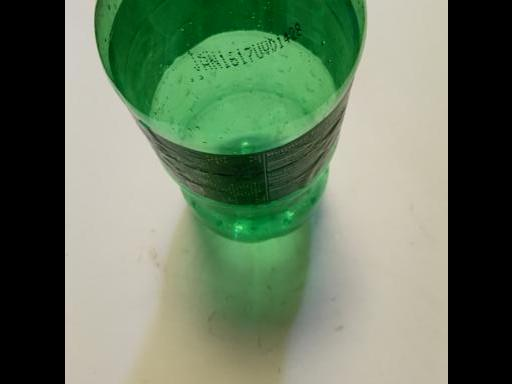bottle: (82, 0, 376, 257)
